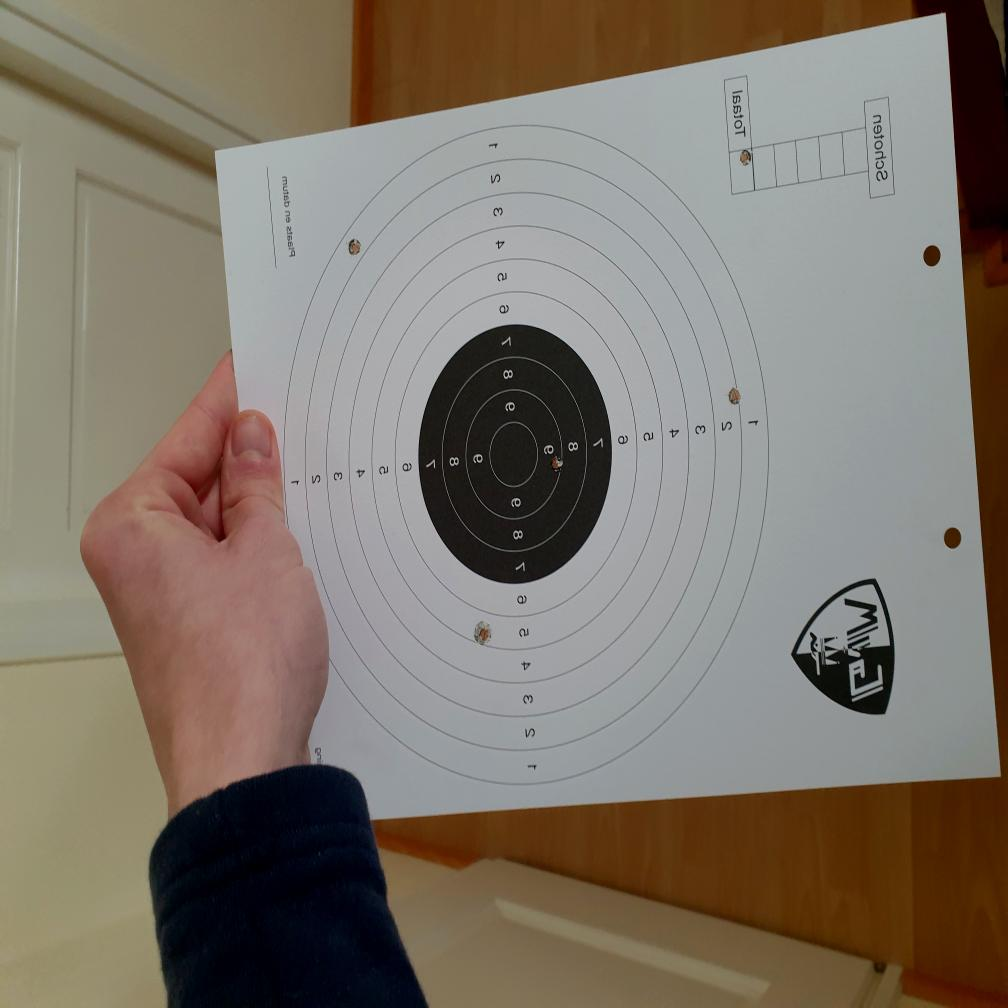0: (739, 149, 751, 166)
1: (348, 238, 361, 256)
2: (728, 386, 740, 406)
5: (473, 619, 492, 646)
9: (550, 455, 563, 474)
Target: (284, 124, 771, 789)
black_contour: (418, 324, 612, 584)
